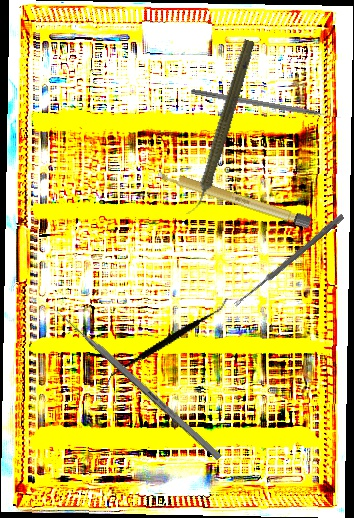Handpiece: (183, 36, 259, 220)
Hook Surgical: (190, 88, 342, 123)
Pusher: (49, 303, 223, 461)
Scalpel Handle: (156, 167, 312, 229)
Spatula Surgical: (104, 267, 229, 419)
Surgical Spoon: (233, 212, 345, 309)
